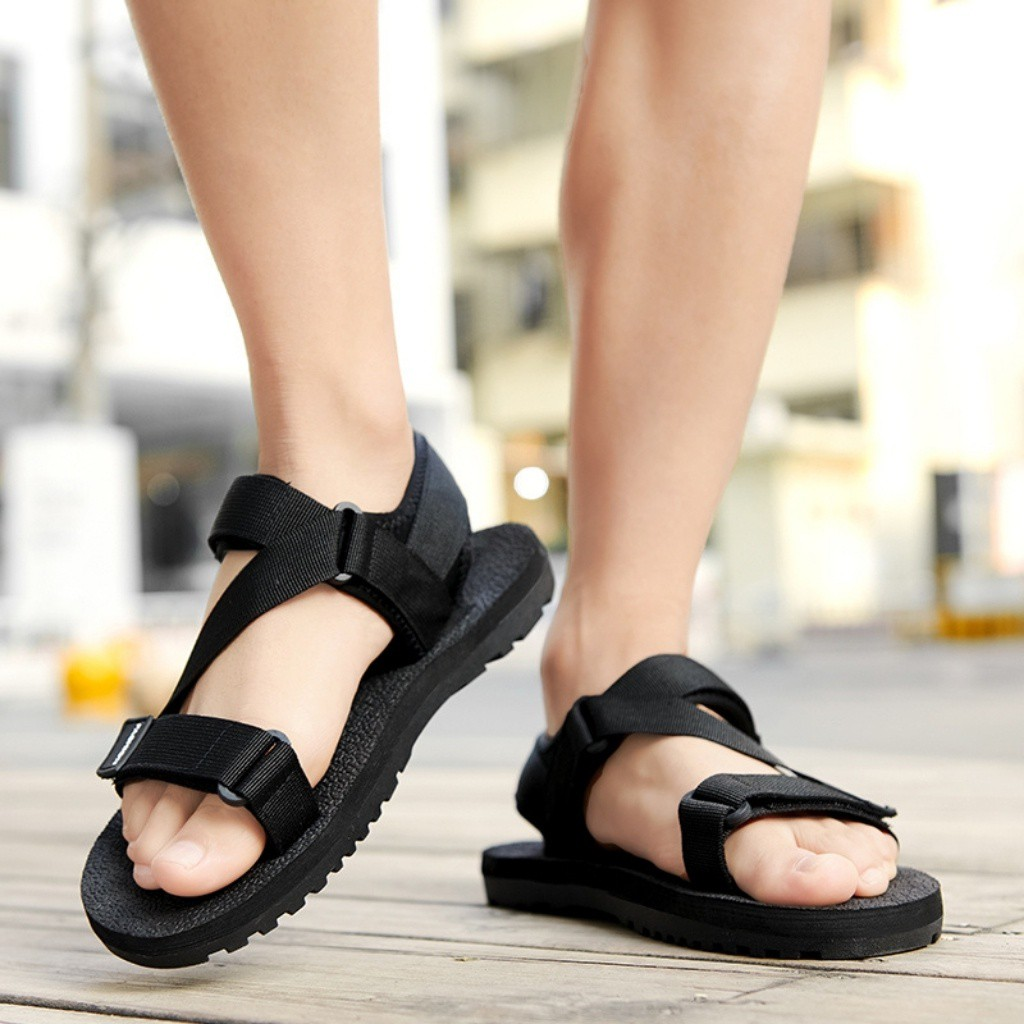sandals: (73, 426, 555, 971), (482, 654, 950, 964)
